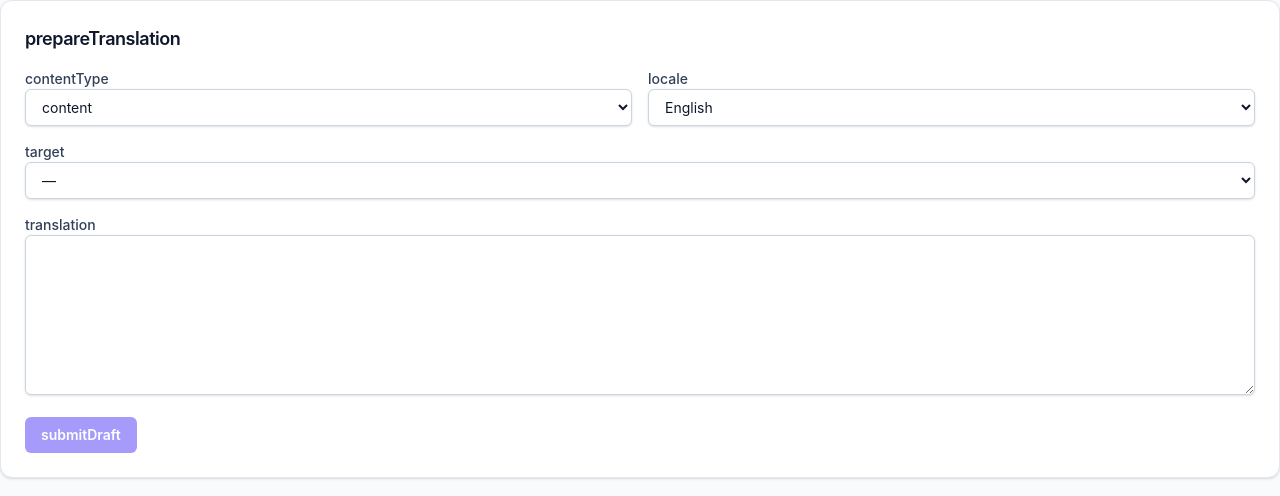
Test: clears the destination and text when changing language
The width and height of the screenshot is (1280, 496).
Select "Original" in the dropdown labelled "target": [640, 180] box [25,162,1255,199]
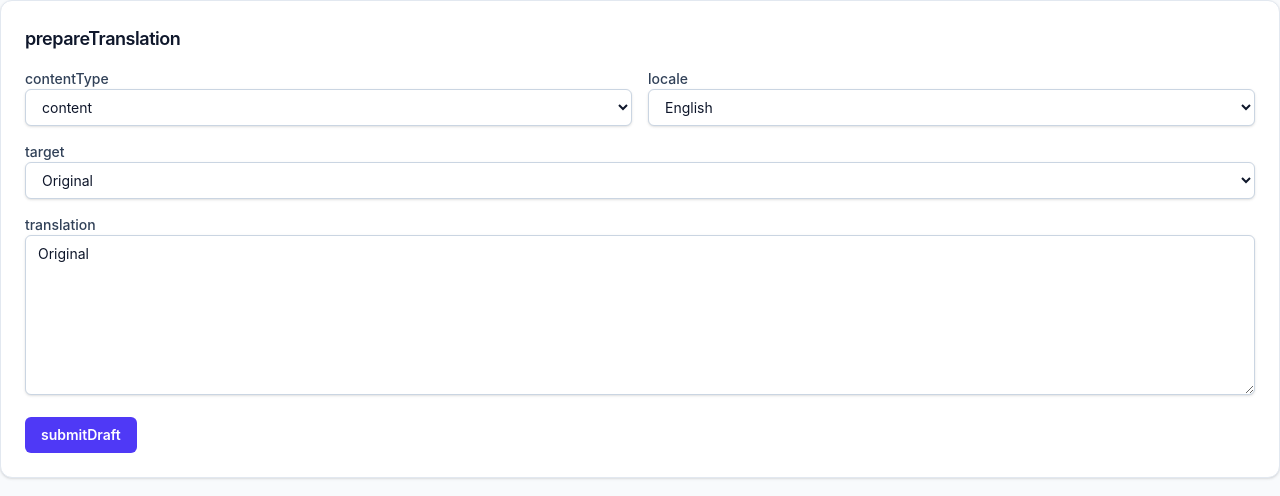
Select "中文" in the dropdown labelled "locale": [952, 108] box [648,89,1255,126]
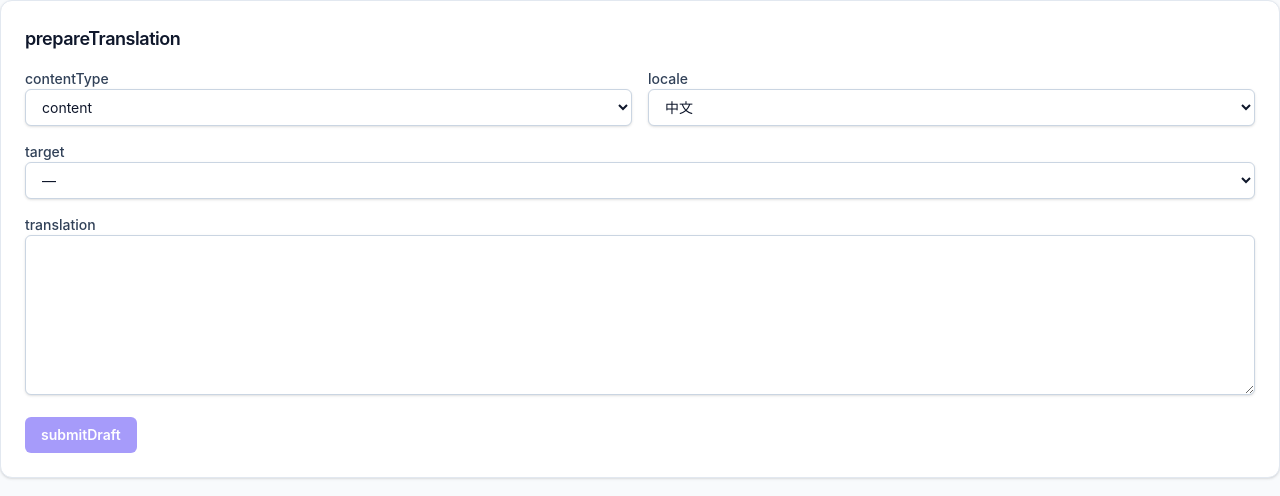
Expected: the text box labelled "translation" is empty, [25,235,1255,395]
Expected: the button "submitDraft" is disabled, [25,417,137,453]
